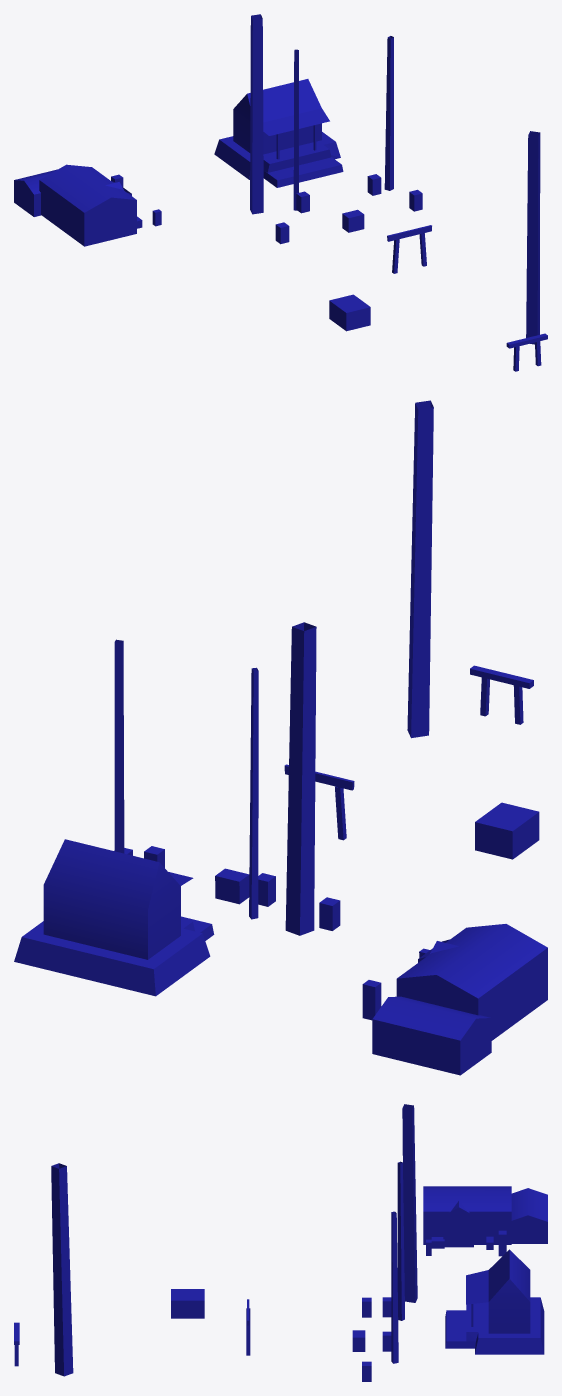
File: collision_camera.X.obj
3 renders of one model, top to bottom at view 1: azimuth 30°, elevation 25°; view 2: azimuth 150°, elevation 25°; view 3: azimuth 270°, elevation 25°, orthographic. The views are drawn at different scales.
Bounding box in the file's own units: 4204 × 2846 × 6290.
